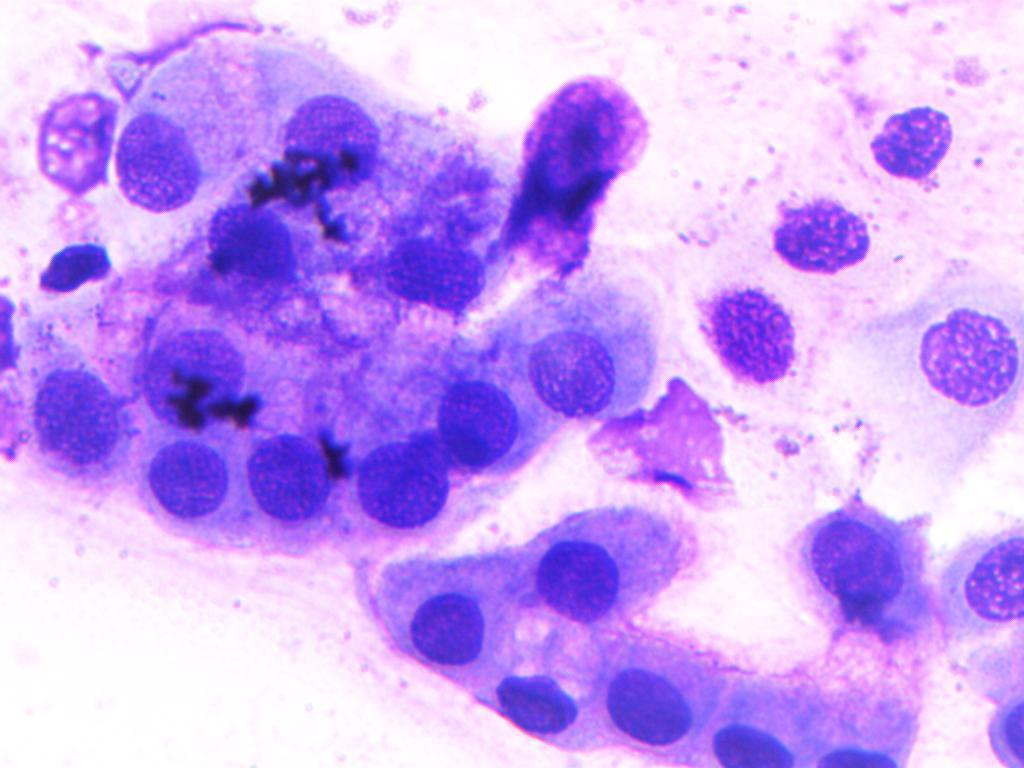artifact: (592, 379, 734, 507), (243, 148, 376, 239), (164, 364, 282, 431), (34, 229, 127, 299), (309, 419, 356, 482)
epithelial: (783, 486, 950, 676), (504, 51, 664, 209), (902, 268, 1023, 470), (519, 495, 678, 617), (367, 553, 500, 670), (691, 280, 817, 398), (332, 431, 444, 560), (274, 78, 394, 192), (15, 364, 133, 478), (417, 365, 533, 479), (191, 195, 320, 295), (110, 325, 233, 422), (854, 75, 955, 191), (243, 420, 335, 540), (366, 222, 485, 312), (512, 326, 627, 419), (936, 515, 1024, 631), (594, 656, 705, 747), (700, 677, 810, 768), (750, 193, 872, 275), (111, 111, 204, 218), (28, 87, 113, 204), (138, 433, 237, 524), (811, 703, 915, 768), (491, 674, 578, 740), (975, 671, 1024, 768)
